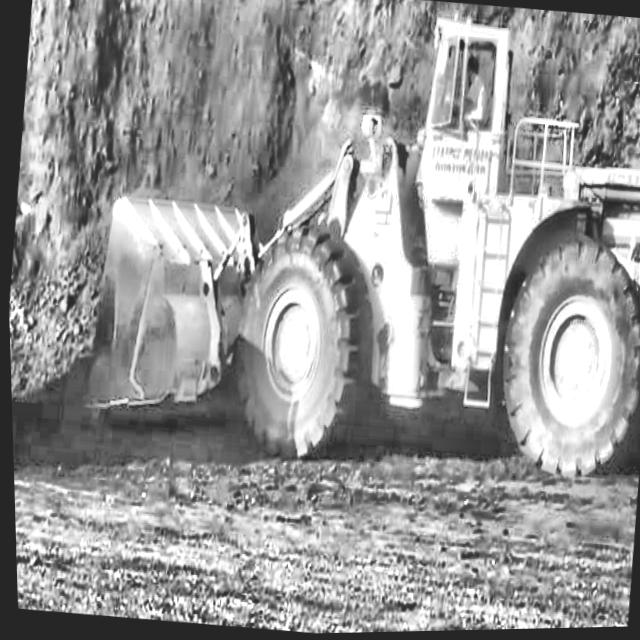buldozerpayloadergrader: (59, 0, 640, 527)
